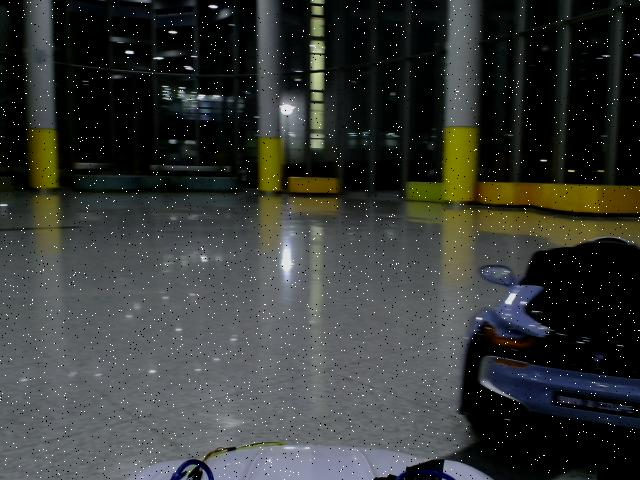car: (460, 236, 640, 445)
